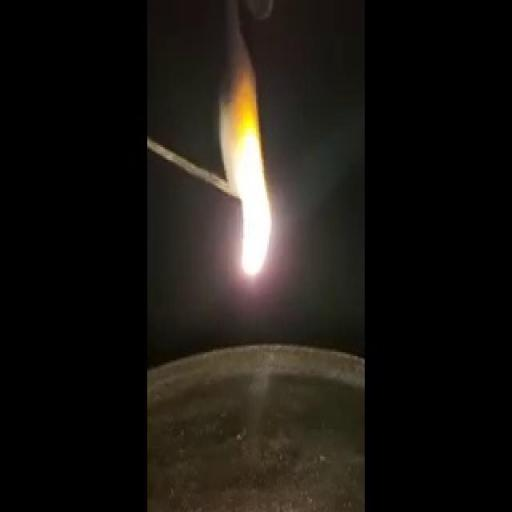smoke: (218, 89, 283, 299)
